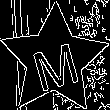M_N: (26, 30, 83, 90)
